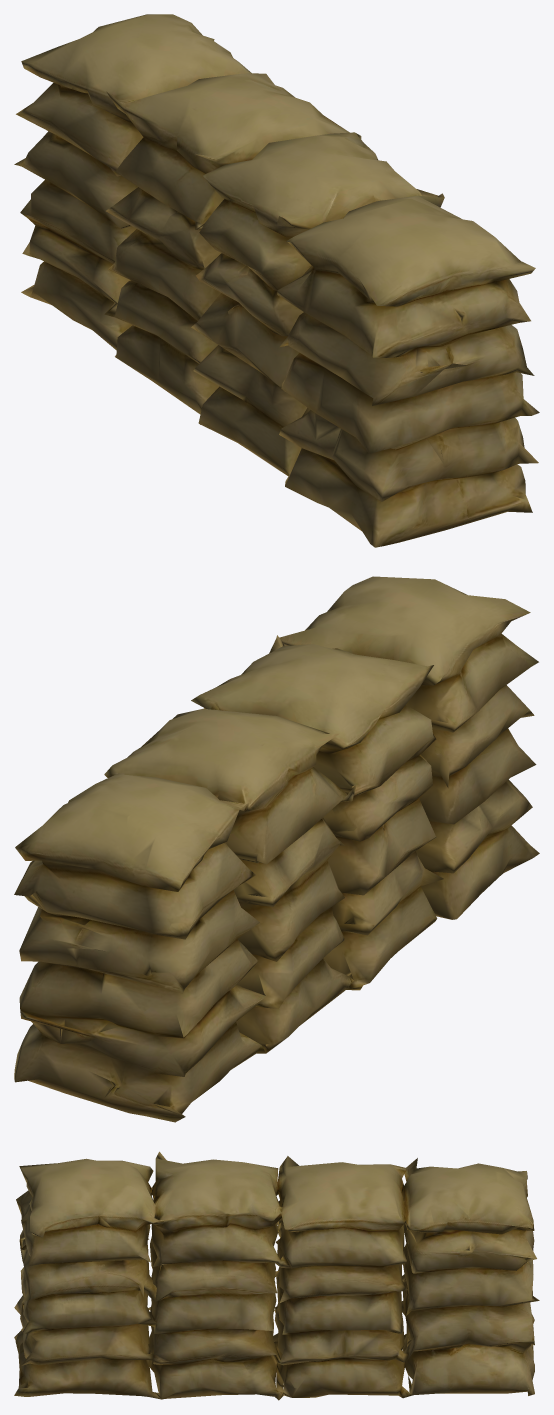
Rendered from sandbag_wall.raw.glb.
The picture shows the model from 3 angles, top to bottom: view 1: azimuth 30°, elevation 25°; view 2: azimuth 150°, elevation 25°; view 3: azimuth 270°, elevation 25°; orthographic projection. The views are drawn at different scales.
Parts seen in each view (by area): view 1: tripo_node_b4a4f47f-0e6d-40c4-89ed-e4fbd65311b7; view 2: tripo_node_b4a4f47f-0e6d-40c4-89ed-e4fbd65311b7; view 3: tripo_node_b4a4f47f-0e6d-40c4-89ed-e4fbd65311b7.
Part boxes in pixels (x1,y1,x2,y2): tripo_node_b4a4f47f-0e6d-40c4-89ed-e4fbd65311b7: (14, 14, 539, 547); tripo_node_b4a4f47f-0e6d-40c4-89ed-e4fbd65311b7: (14, 576, 539, 1122); tripo_node_b4a4f47f-0e6d-40c4-89ed-e4fbd65311b7: (14, 1151, 539, 1400).
Bounding box in the file's own units: 0.2985 × 0.4277 × 1.
Materials: 1 (1 with a texture image).
